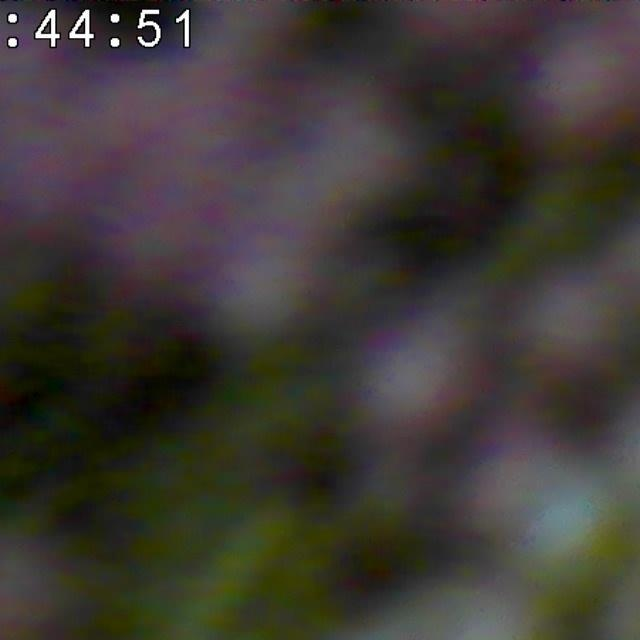SeaGrape: (520, 32, 640, 190), (508, 267, 633, 400), (498, 463, 622, 589), (354, 327, 483, 440)
